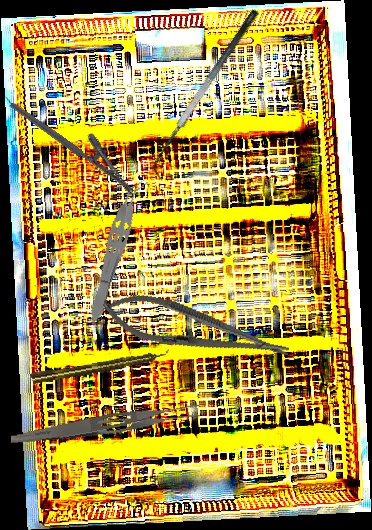Dressing Forceps: (9, 398, 202, 454)
Handpiece: (29, 347, 172, 386)
Needle Holder: (97, 283, 294, 376), (9, 84, 147, 196)
Spatula Surgical: (141, 7, 273, 182)
Tissue Forceps: (83, 174, 150, 324)
